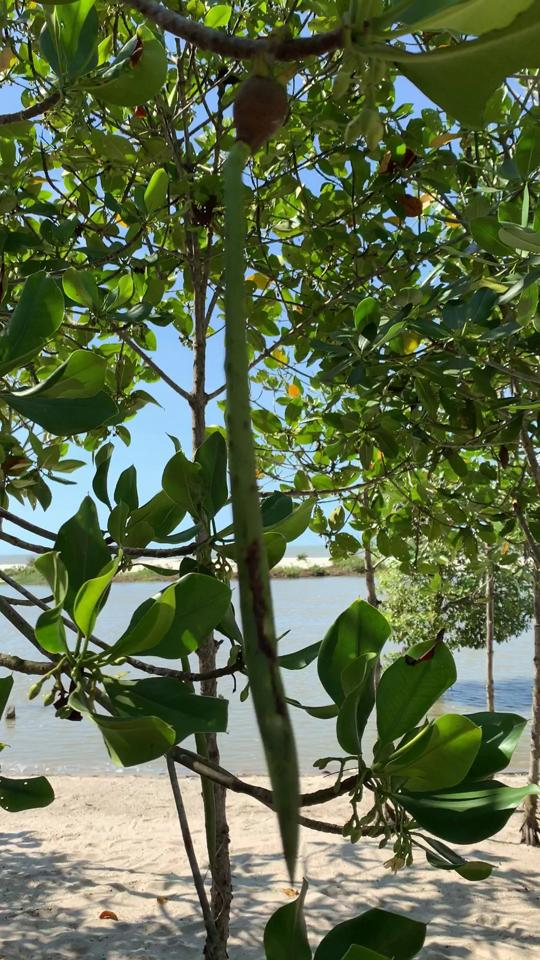setengah matang: (205, 62, 322, 885)
